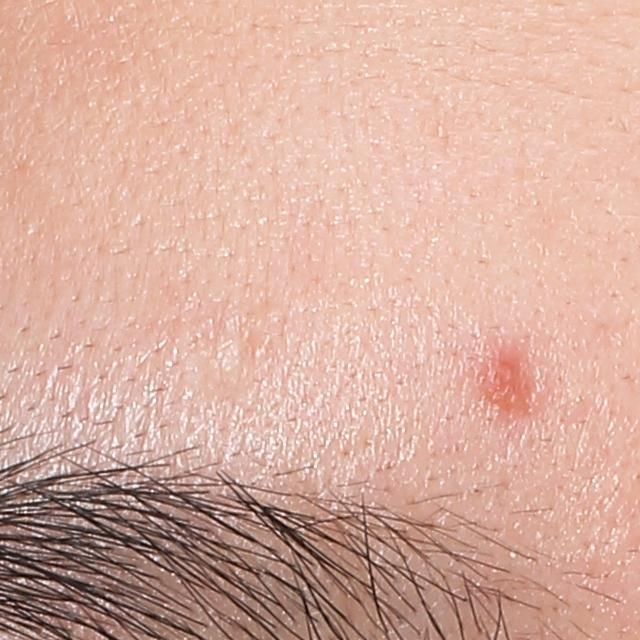papule: (471, 336, 534, 416)
